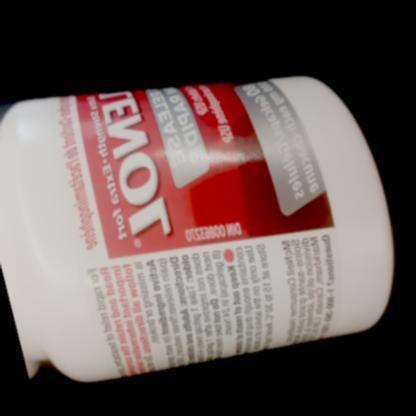jar: (0, 42, 408, 393)
